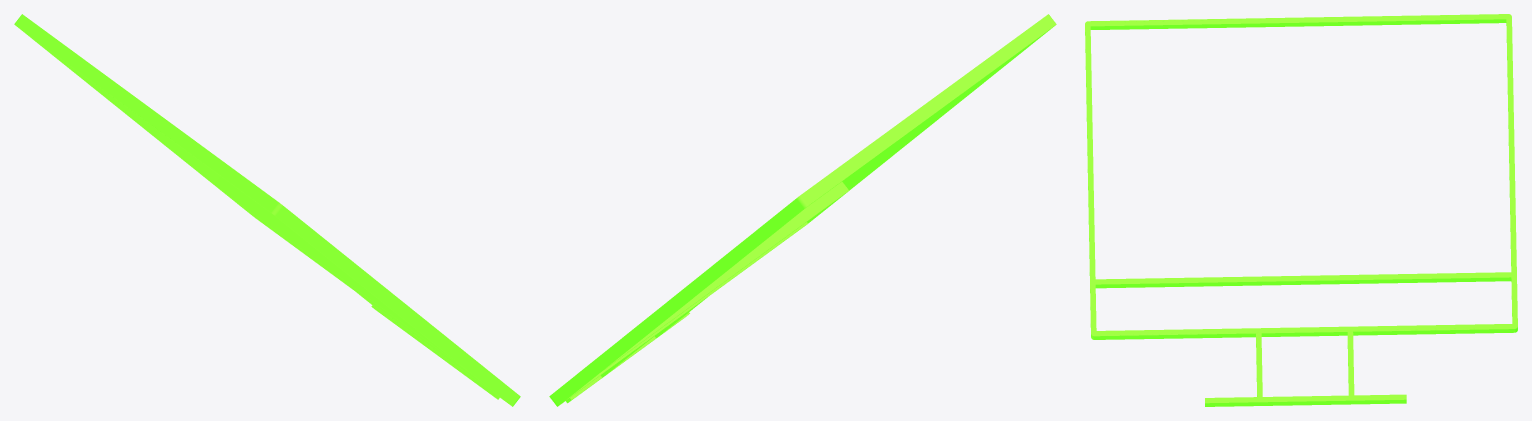
Rendered from podium_image_on.glb.
3 renders of one model, left to right at view 1: azimuth 30°, elevation 25°; view 2: azimuth 150°, elevation 25°; view 3: azimuth 270°, elevation 25°, orthographic. The views are drawn at different scales.
Parts seen in each view (by area): view 1: Buttons.001; view 2: Buttons.001; view 3: Buttons.001.
Part boxes in pixels (x1,y1,x2,y2): Buttons.001: (14, 14, 520, 406); Buttons.001: (549, 14, 1056, 406); Buttons.001: (1085, 14, 1517, 406).
Bounding box in the file's own units: 0.0328 × 0.0328 × 0.0473.
